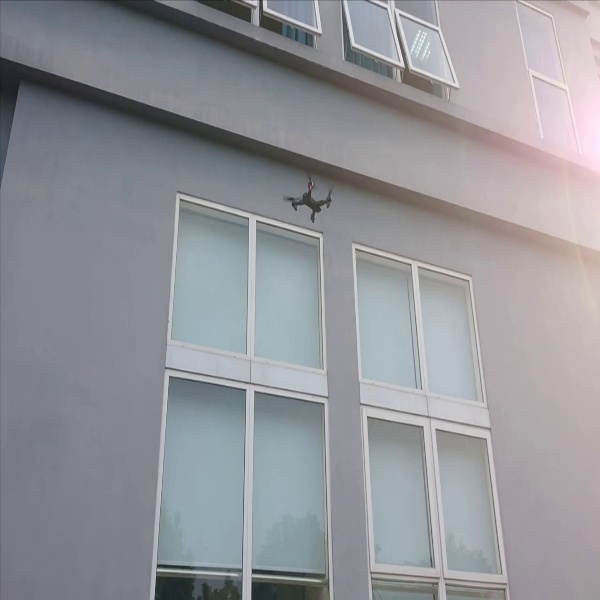drone: (280, 166, 344, 224)
